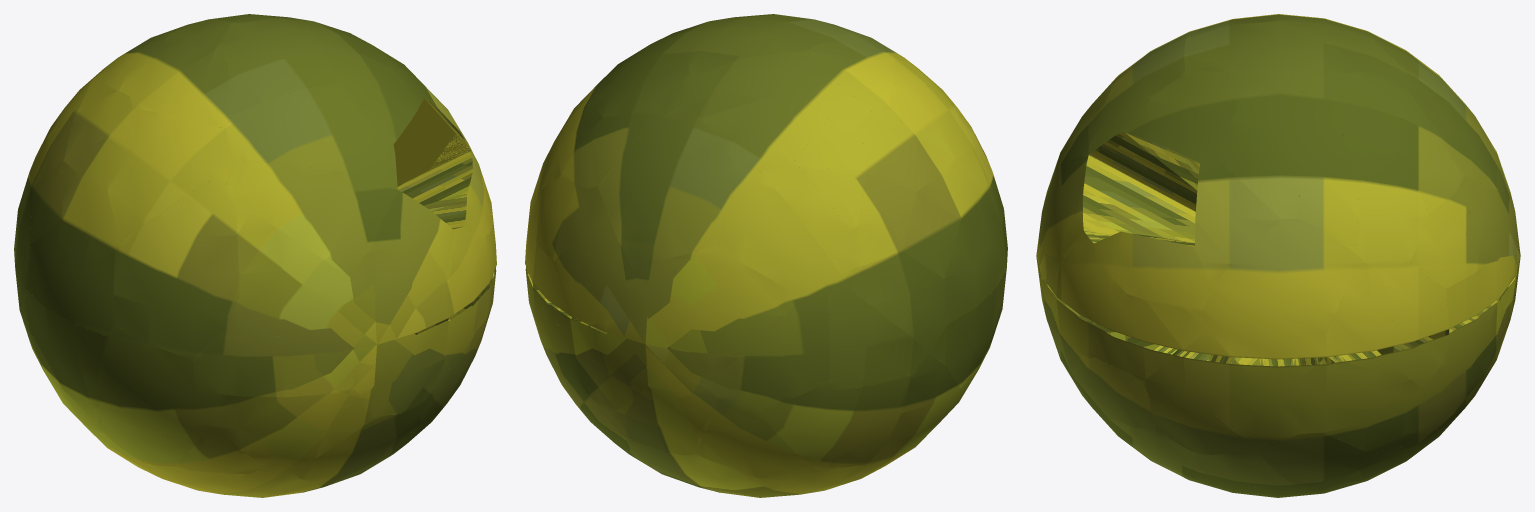
The model's file is Ball 11Destroyed.fbx.
3 renders of one model, left to right at view 1: azimuth 30°, elevation 25°; view 2: azimuth 150°, elevation 25°; view 3: azimuth 270°, elevation 25°, orthographic.
Visible parts, largest first — view 1: Sphere_cell.058, Sphere_cell.070, Sphere_cell.039, Sphere_cell.099, Sphere_cell.098, Sphere_cell.062, Sphere_cell.085, Sphere_cell, Sphere_cell.016, Sphere_cell.022, Sphere_cell.066, Sphere_cell.067 (+28 smaller); view 2: Sphere_cell.084, Sphere_cell.081, Sphere_cell.060, Sphere_cell.088, Sphere_cell.047, Sphere_cell.087, Sphere_cell.014, Sphere_cell.075, Sphere_cell.045, Sphere_cell.002, Sphere_cell.007, Sphere_cell.063 (+37 smaller); view 3: Sphere_cell.062, Sphere_cell.059, Sphere_cell.039, Sphere_cell.025, Sphere_cell.082, Sphere_cell.031, Sphere_cell.012, Sphere_cell.029, Sphere_cell.051, Sphere_cell.021, Sphere_cell.009, Sphere_cell.004 (+40 smaller).
Boxes of the visible parts, box(x1,y1,x2,y2) form: Sphere_cell.058: box(113, 175, 240, 360); Sphere_cell.070: box(222, 159, 397, 279); Sphere_cell.039: box(225, 84, 397, 188); Sphere_cell.099: box(105, 109, 228, 243); Sphere_cell.098: box(98, 326, 218, 435); Sphere_cell.062: box(350, 190, 452, 327); Sphere_cell.085: box(195, 328, 354, 396); Sphere_cell: box(218, 387, 373, 467); Sphere_cell.016: box(353, 296, 448, 416); Sphere_cell.022: box(26, 220, 117, 335); Sphere_cell.066: box(236, 202, 350, 294); Sphere_cell.067: box(221, 285, 353, 336); Sphere_cell.084: box(635, 110, 739, 269); Sphere_cell.081: box(627, 245, 722, 386); Sphere_cell.060: box(718, 169, 844, 296); Sphere_cell.088: box(707, 296, 829, 411); Sphere_cell.047: box(827, 284, 928, 387); Sphere_cell.087: box(701, 96, 828, 170); Sphere_cell.014: box(843, 251, 948, 351); Sphere_cell.075: box(609, 370, 718, 454); Sphere_cell.045: box(711, 250, 800, 378); Sphere_cell.002: box(683, 50, 815, 116); Sphere_cell.007: box(696, 400, 819, 480); Sphere_cell.063: box(598, 106, 687, 269); Sphere_cell.062: box(1039, 155, 1195, 273); Sphere_cell.059: box(1123, 71, 1256, 190); Sphere_cell.039: box(1089, 33, 1197, 211); Sphere_cell.025: box(1211, 219, 1365, 289); Sphere_cell.082: box(1094, 231, 1211, 312); Sphere_cell.031: box(1355, 149, 1429, 266); Sphere_cell.012: box(1195, 157, 1281, 283); Sphere_cell.029: box(1203, 288, 1345, 335); Sphere_cell.051: box(1387, 262, 1449, 389); Sphere_cell.021: box(1326, 264, 1393, 372); Sphere_cell.009: box(1340, 71, 1401, 174); Sphere_cell.004: box(1215, 76, 1301, 155).
Size of the model in its own units: 10000 by 10000 by 10000.
